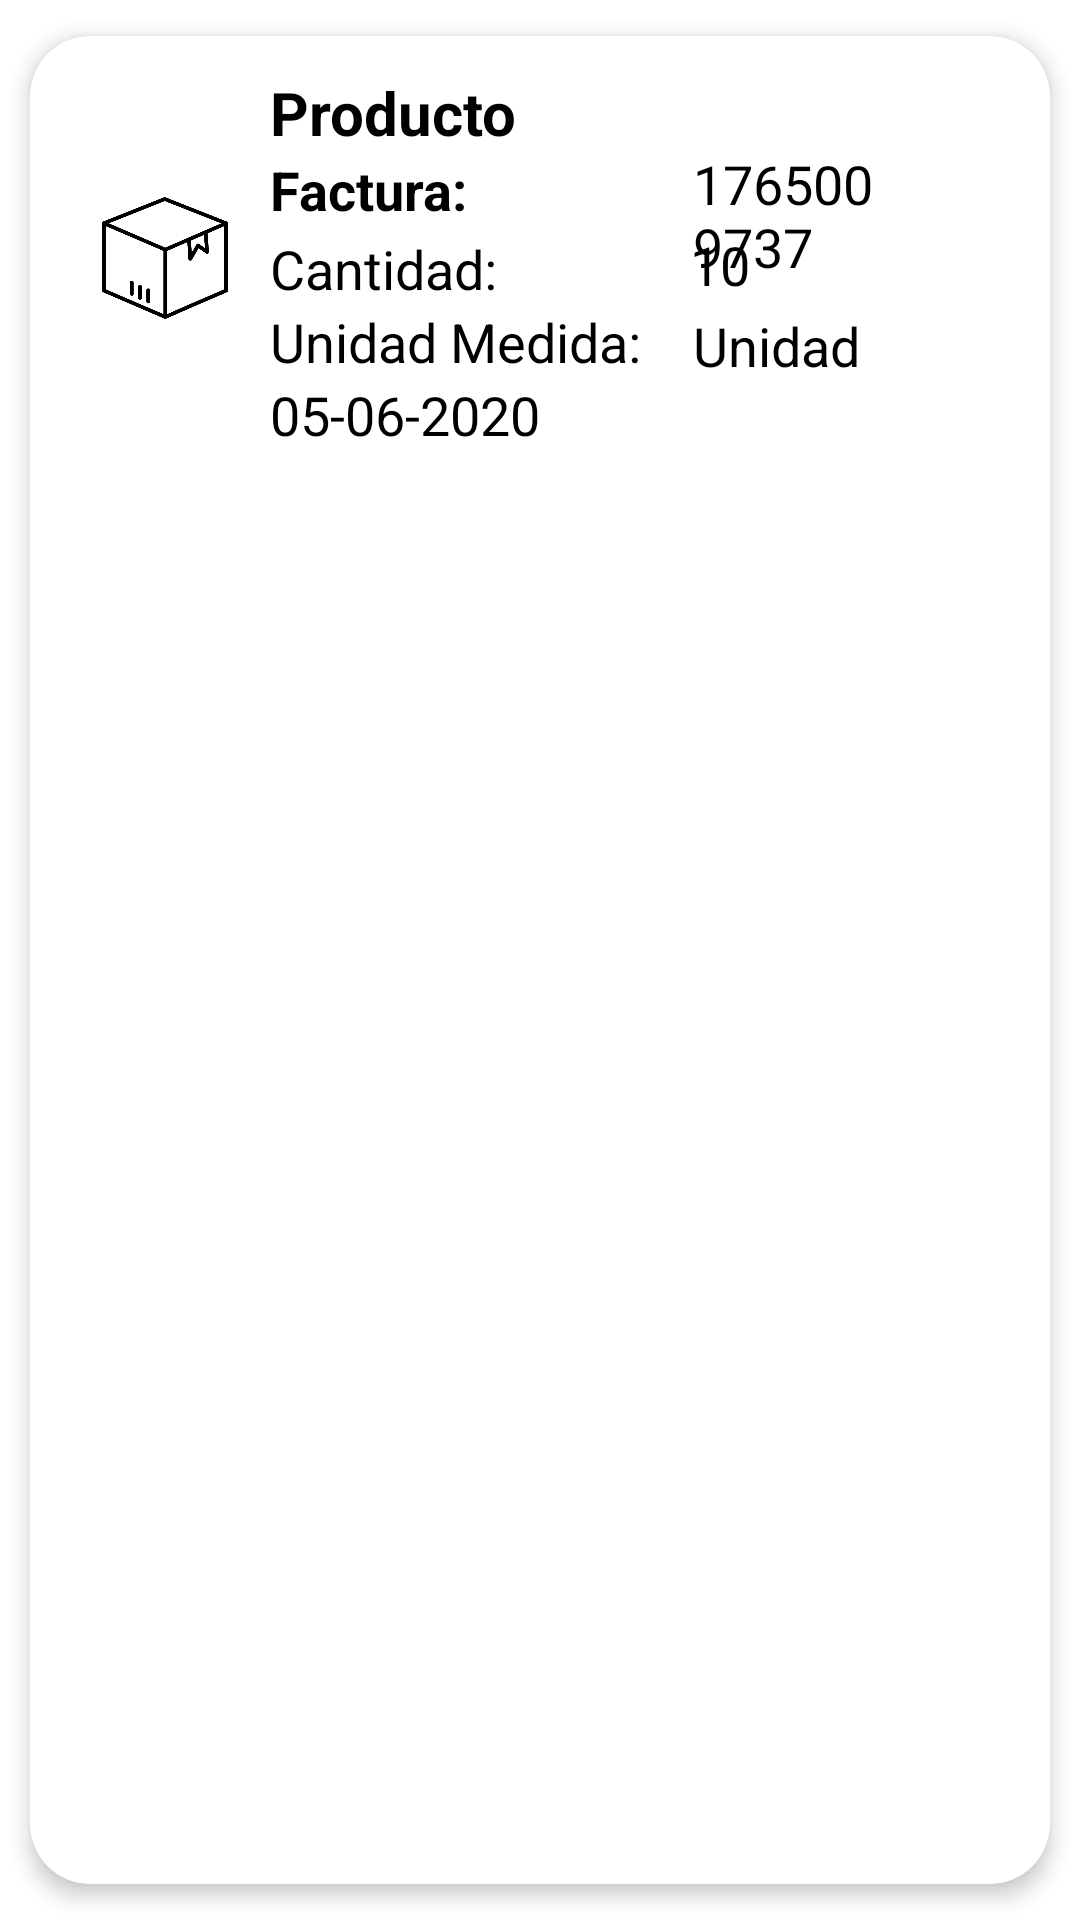

Icons on this 1080w x 1920h Android screen, each with its box as bbox(x1, y1, x2, y2):
caja: bbox(102, 197, 228, 319)
